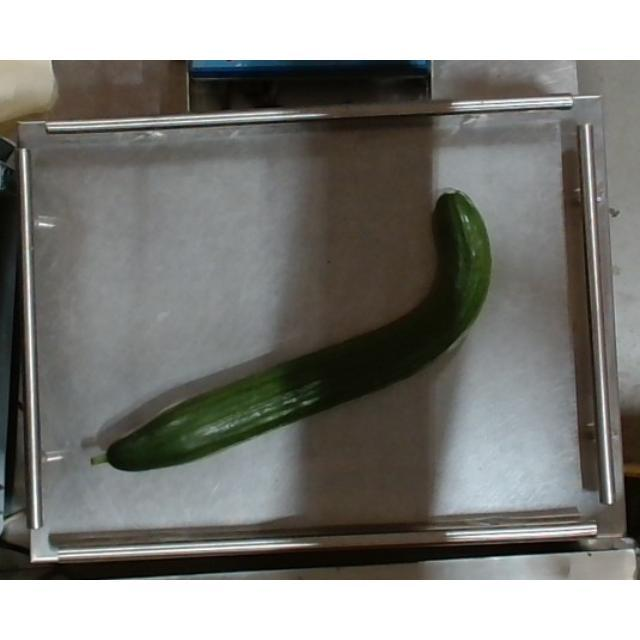cucumber: (92, 188, 492, 470)
